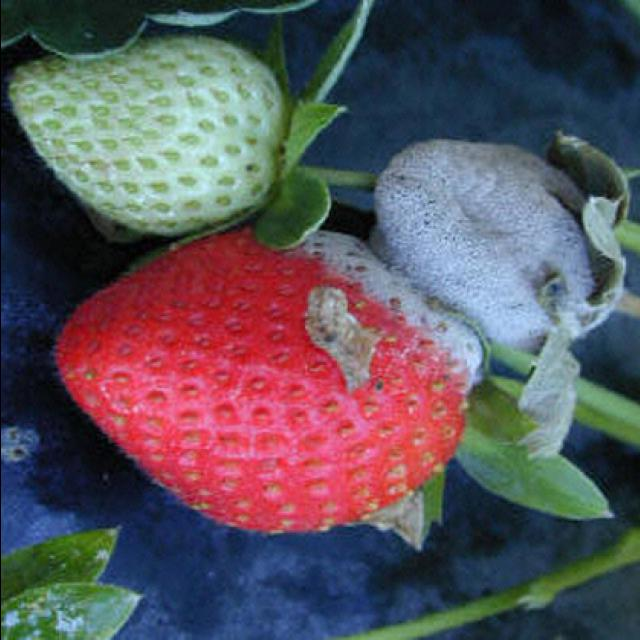Gray Mold: (366, 129, 628, 359), (277, 230, 485, 459)
